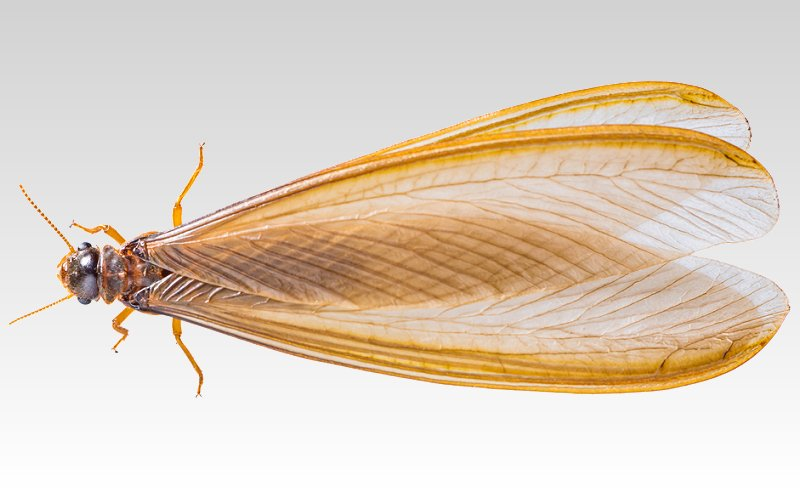flying termite: (4, 72, 791, 425)
